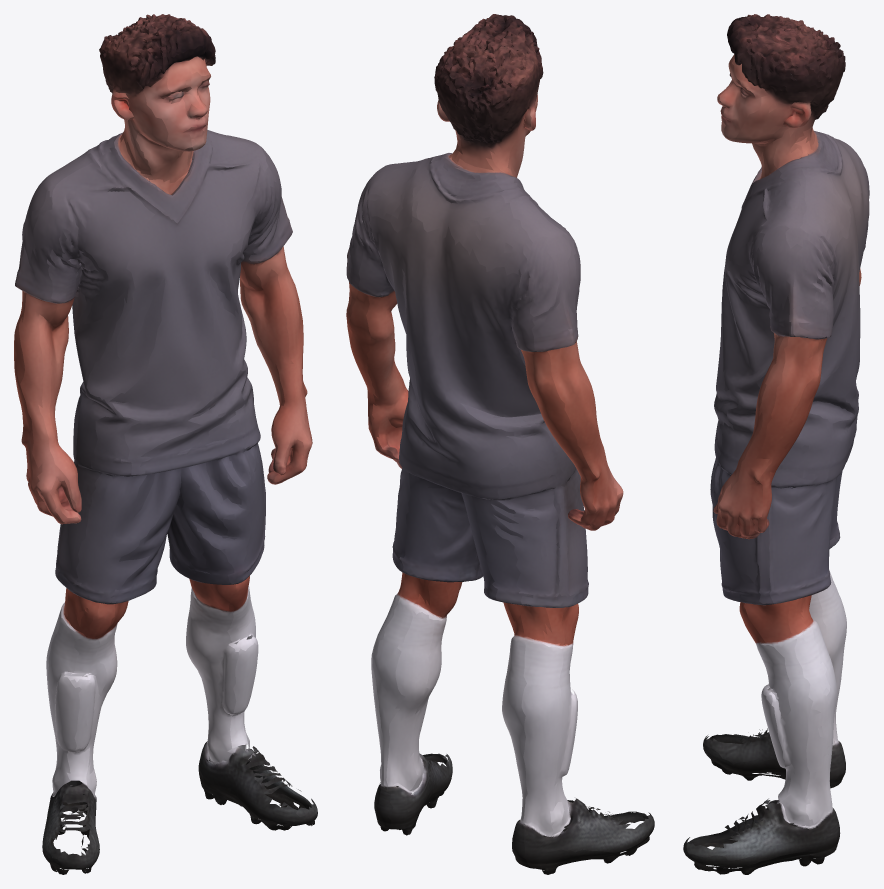
3 renders of one model, left to right at view 1: azimuth 30°, elevation 25°; view 2: azimuth 150°, elevation 25°; view 3: azimuth 270°, elevation 25°, orthographic.
Visible parts, largest first — view 1: model; view 2: model; view 3: model.
Part boxes in pixels (box(x1,y1,x2,y2)): model: box(14, 14, 317, 874); model: box(346, 14, 654, 874); model: box(683, 14, 869, 874).
Size of the model in its own units: 0.3497 by 1 by 0.21.
Materials: 1 (1 with a texture image).
